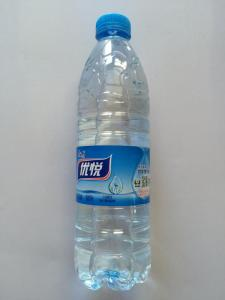amwater: (59, 7, 163, 294)
